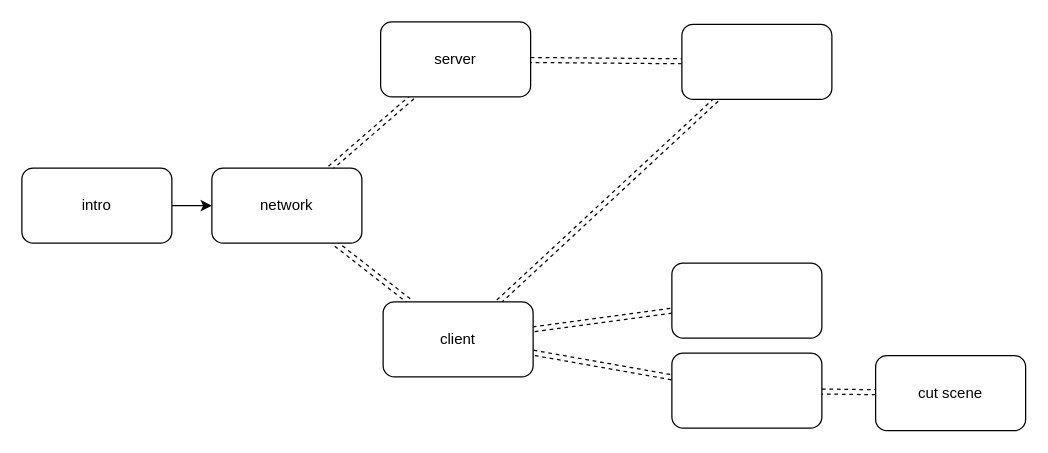
This 1048x453 diagram has some shape labels left out. Each missing label, with the centre of its shape:
"level 1" goes at (746,300).
"level 2" goes at (746,390).
"multiplayer" goes at (756,61).
